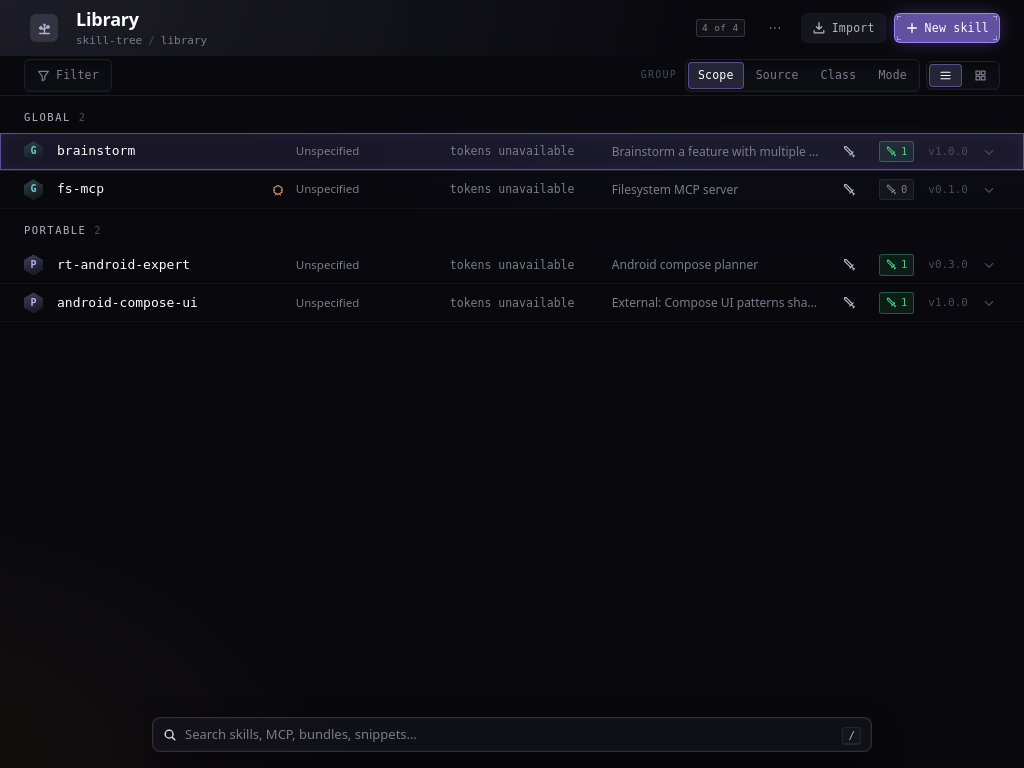
Test: SkillLibrary equip + empty states + candidate banner › shows a filter-empty message distinct from the create CTA when skills exist
This screenshot has width=1024, height=768.
Type "zzz-no-such-skill" into the field with test id "floating-search-input" at (510, 734), box [185,725,834,744]
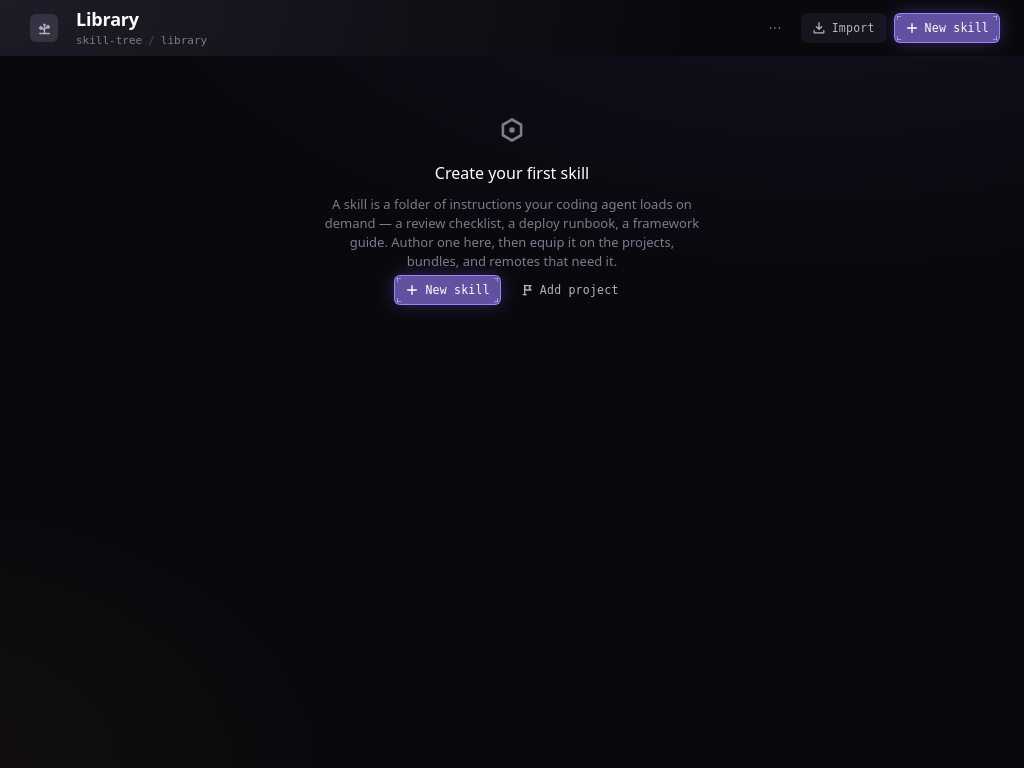
Expected: the heading "No matching skills" is shown, [435,162,589,185]
